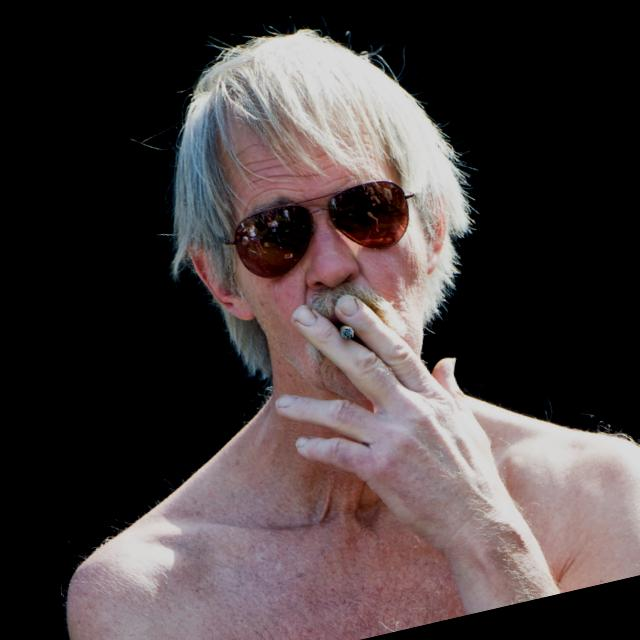smoke: (338, 324, 356, 340)
